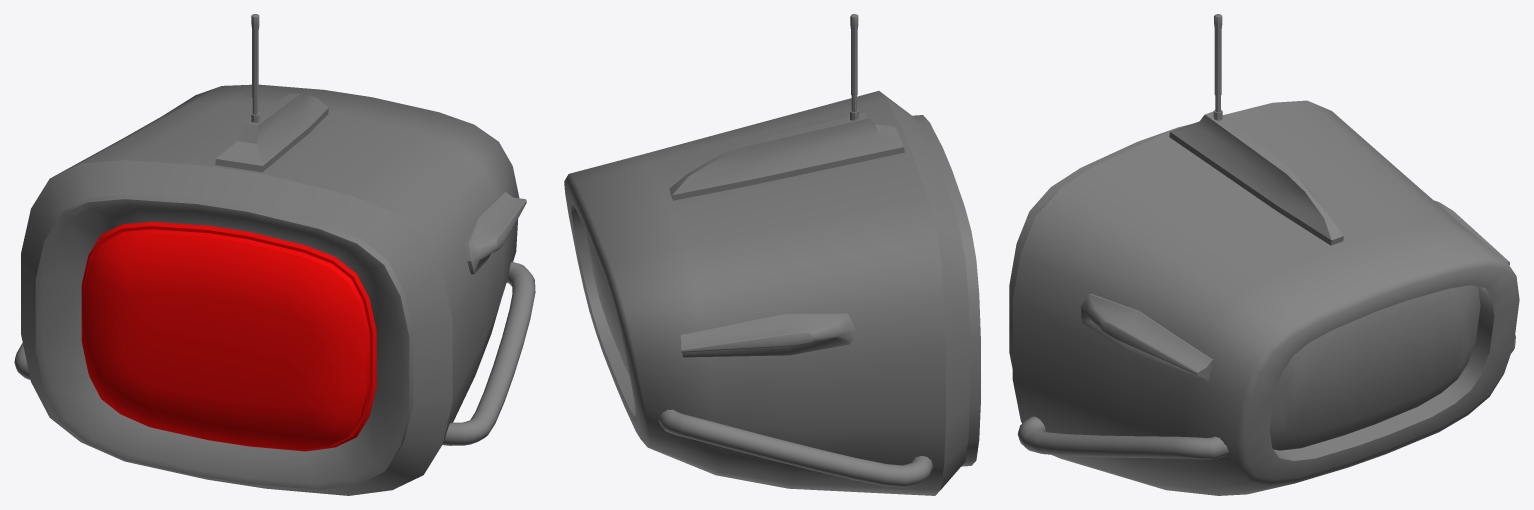
3 views of the same model, side by side, from view 1: azimuth 30°, elevation 25°; view 2: azimuth 150°, elevation 25°; view 3: azimuth 270°, elevation 25° (orthographic). The views are drawn at different scales.
Visible parts, largest first — view 1: TV; view 2: TV; view 3: TV.
Part boxes in pixels (x1,y1,x2,y2): TV: (14,14,535,495); TV: (564,14,980,495); TV: (1009,14,1519,495).
Bounding box in the file's own units: 0.9501 × 0.8987 × 0.9566.
